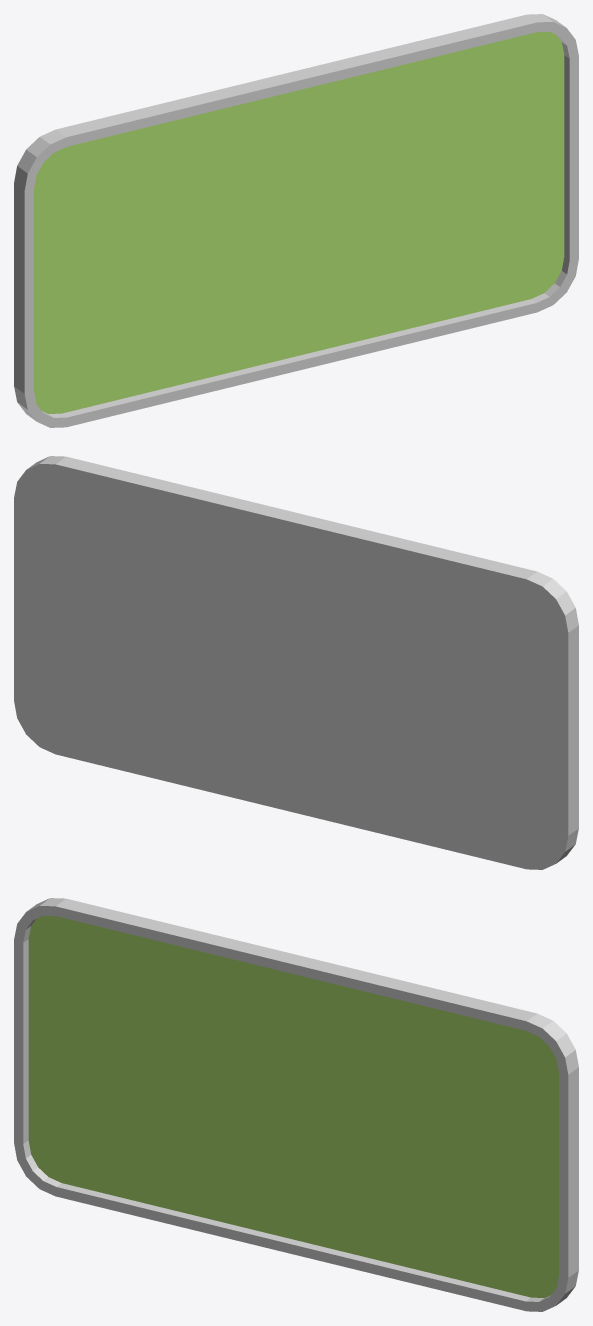
The model's file is Board.fbx.
The picture shows the model from 3 angles, top to bottom: view 1: azimuth 30°, elevation 25°; view 2: azimuth 150°, elevation 25°; view 3: azimuth 330°, elevation 25°; orthographic projection.
Parts seen in each view (by area): view 1: Board; view 2: Board; view 3: Board.
Boxes of the visible parts, x1,y1,x2,y2 form: Board: [14, 14, 578, 427]; Board: [14, 456, 578, 869]; Board: [14, 898, 578, 1311].
Bounding box in the file's own units: 3 × 0.1 × 1.5.
